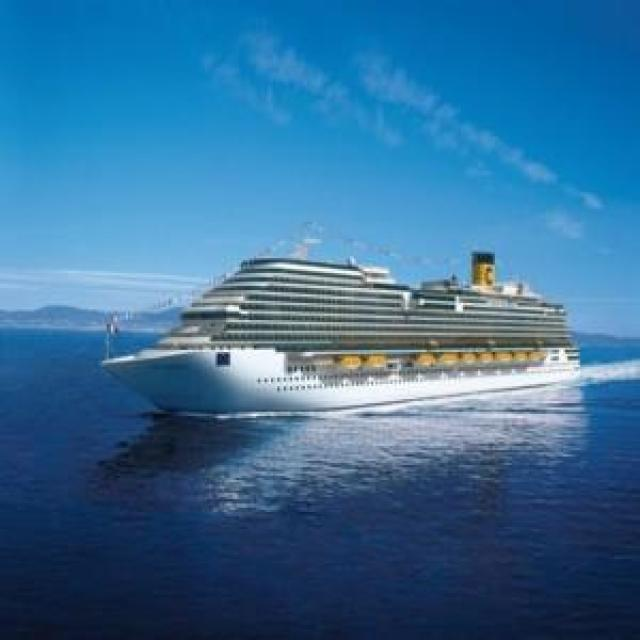passenger ship: (148, 218, 574, 413)
